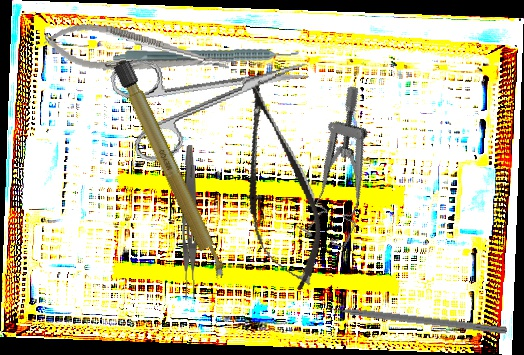Chopper: (315, 293, 509, 335)
Dressing Forceps: (179, 145, 199, 300)
Handpiece: (111, 47, 300, 72)
Iris Scissors: (108, 23, 320, 167)
Micro Scissor: (219, 67, 335, 297)
Needle Holder: (41, 17, 233, 88)
Scalpel Handle: (112, 60, 230, 282)
Speculum: (281, 83, 410, 253)
